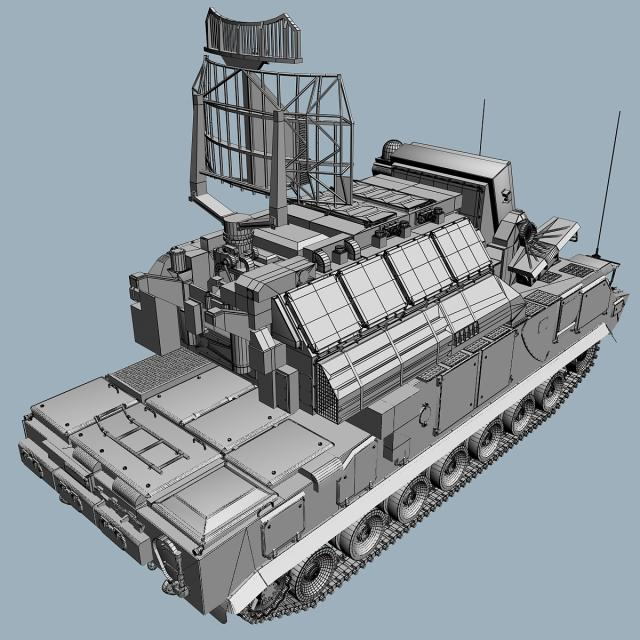MIL_EW_RDR: (24, 3, 628, 630)
